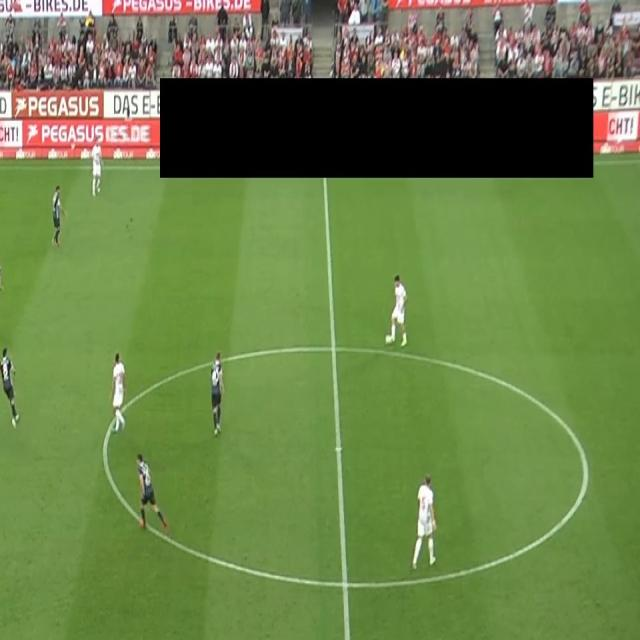ball: (384, 332, 393, 346)
